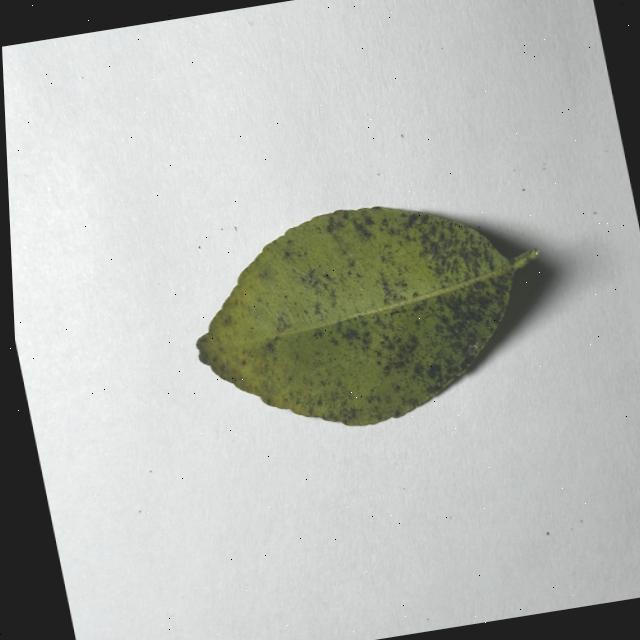sooty_mold: (196, 207, 537, 426)
